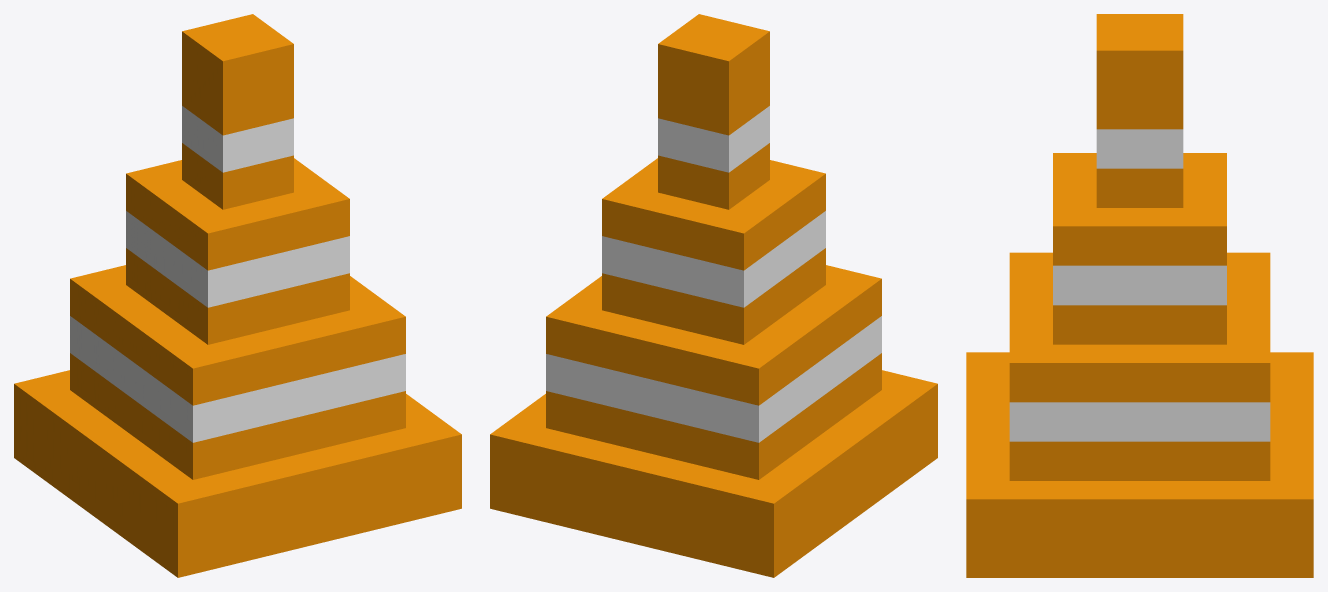
The model's file is tottero.obj.
3 views of the same model, side by side, from view 1: azimuth 30°, elevation 25°; view 2: azimuth 150°, elevation 25°; view 3: azimuth 270°, elevation 25° (orthographic). The views are drawn at different scales.
Size of the model in its own units: 8 by 12 by 8.
Materials: 1 (1 with a texture image).
